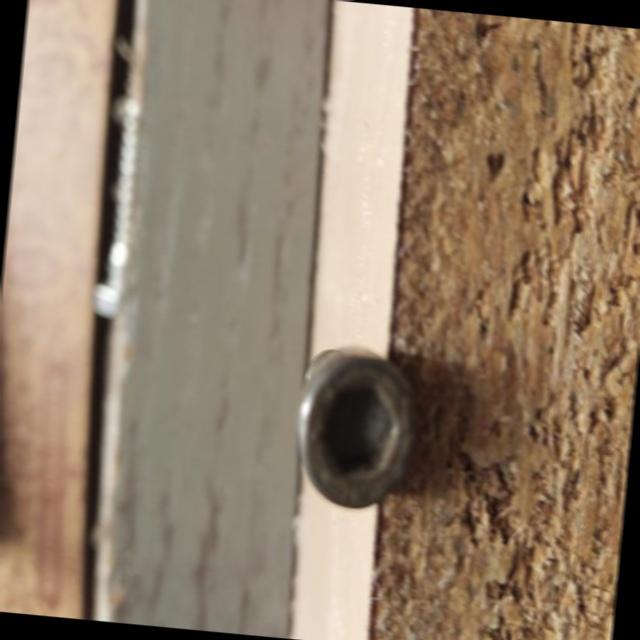allen: (294, 344, 428, 515)
